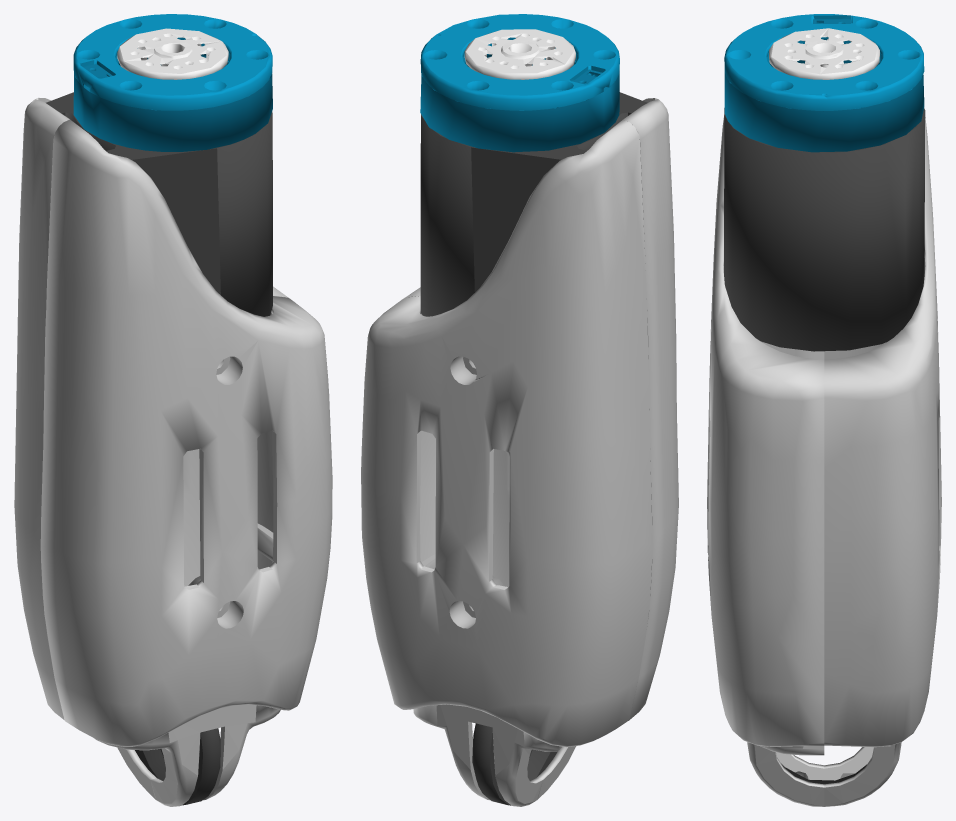
Rendered from RARM_LINK5_mesh.dae.
3 views of the same model, side by side, from view 1: azimuth 30°, elevation 25°; view 2: azimuth 150°, elevation 25°; view 3: azimuth 270°, elevation 25° (orthographic).
Parts seen in each view (by area): view 1: サーフェス1_ncl1_14_1, サーフェス1_ncl1_15_1, サーフェス1_ncl1_7_4, サーフェス1_ncl1_7_7, サーフェス1_ncl1_7_6, サーフェス1_ncl1_8_3, サーフェス1_ncl1_1, サーフェス1_ncl1_14, サーフェス1_ncl1_15; view 2: サーフェス1_ncl1_15_1, サーフェス1_ncl1_14_1, サーフェス1_ncl1_7_4, サーフェス1_ncl1_7_7, サーフェス1_ncl1_7_6, サーフェス1_ncl1_8_3, サーフェス1_ncl1_1, サーフェス1_ncl1_15; view 3: サーフェス1_ncl1_14_1, サーフェス1_ncl1_15_1, サーフェス1_ncl1_7_4, サーフェス1_ncl1_7_7, サーフェス1_ncl1_7_6, サーフェス1_ncl1_8_3.
Part boxes in pixels (left/top/right/bottom): サーフェス1_ncl1_14_1: left=40, top=119, right=332, bottom=806; サーフェス1_ncl1_15_1: left=14, top=97, right=287, bottom=799; サーフェス1_ncl1_7_4: left=46, top=92, right=272, bottom=316; サーフェス1_ncl1_7_7: left=73, top=14, right=272, bottom=110; サーフェス1_ncl1_7_6: left=73, top=37, right=272, bottom=151; サーフェス1_ncl1_8_3: left=117, top=28, right=228, bottom=79; サーフェス1_ncl1_1: left=135, top=728, right=220, bottom=805; サーフェス1_ncl1_14: left=152, top=356, right=243, bottom=799; サーフェス1_ncl1_15: left=41, top=127, right=284, bottom=719; サーフェス1_ncl1_15_1: left=361, top=119, right=652, bottom=806; サーフェス1_ncl1_14_1: left=405, top=98, right=678, bottom=799; サーフェス1_ncl1_7_4: left=420, top=92, right=647, bottom=316; サーフェス1_ncl1_7_7: left=420, top=14, right=619, bottom=110; サーフェス1_ncl1_7_6: left=420, top=37, right=619, bottom=152; サーフェス1_ncl1_8_3: left=464, top=29, right=575, bottom=79; サーフェス1_ncl1_1: left=472, top=723, right=557, bottom=805; サーフェス1_ncl1_15: left=408, top=143, right=652, bottom=799; サーフェス1_ncl1_14_1: left=707, top=115, right=824, bottom=806; サーフェス1_ncl1_15_1: left=824, top=117, right=941, bottom=806; サーフェス1_ncl1_7_4: left=724, top=108, right=925, bottom=351; サーフェス1_ncl1_7_7: left=724, top=14, right=924, bottom=110; サーフェス1_ncl1_7_6: left=724, top=19, right=924, bottom=152; サーフェス1_ncl1_8_3: left=769, top=28, right=879, bottom=79.
Bounding box in the file's own units: 0.0782 × 0.0611 × 0.216.
